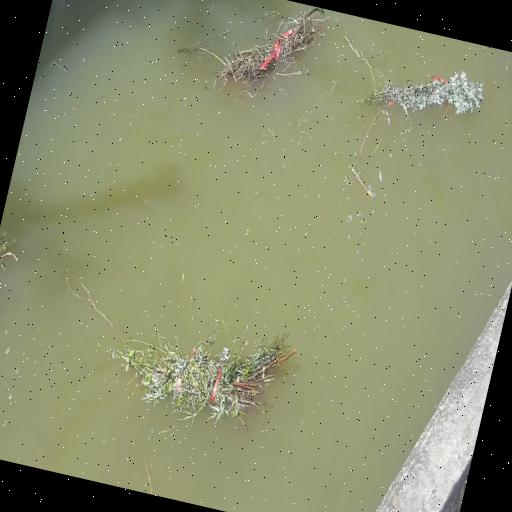twig: (92, 300, 302, 445), (355, 28, 497, 148), (197, 0, 333, 110), (0, 226, 27, 277)
